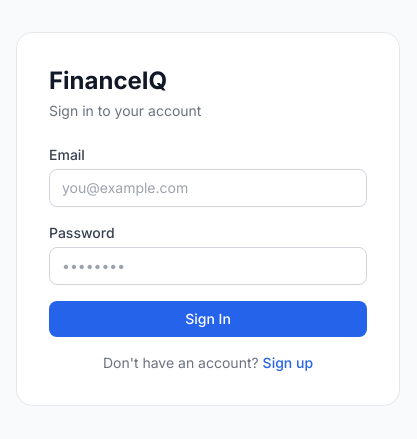
it: LoginPage › shows error message on failed sign-in
In the field with placeholder "you@example.com": (208, 188) [49,169,367,207], type "bad@example.com"
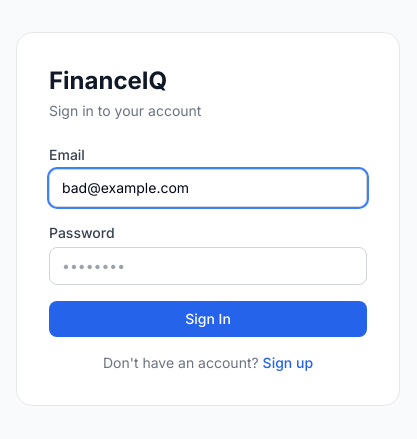
In the password field with placeholder "••••••••": (208, 266) [49,247,367,285], type "wrongpassword"
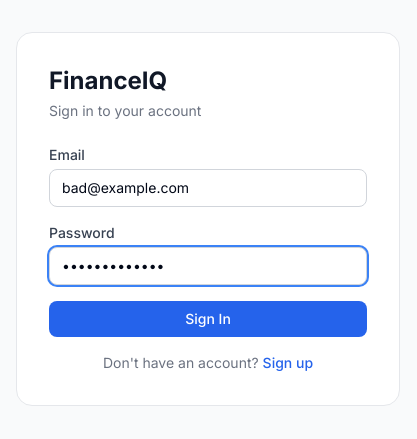
Click the button "Sign In": (208, 319) [49,301,367,337]
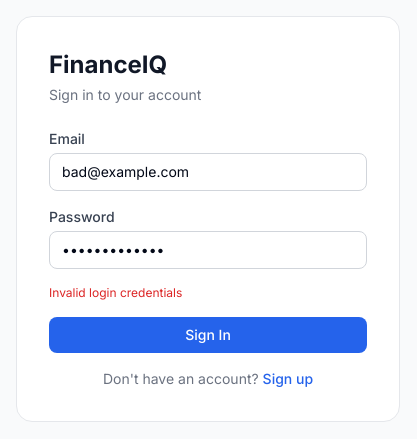
Expected: the text "Invalid login credentials" is shown, [49,285,182,300]
